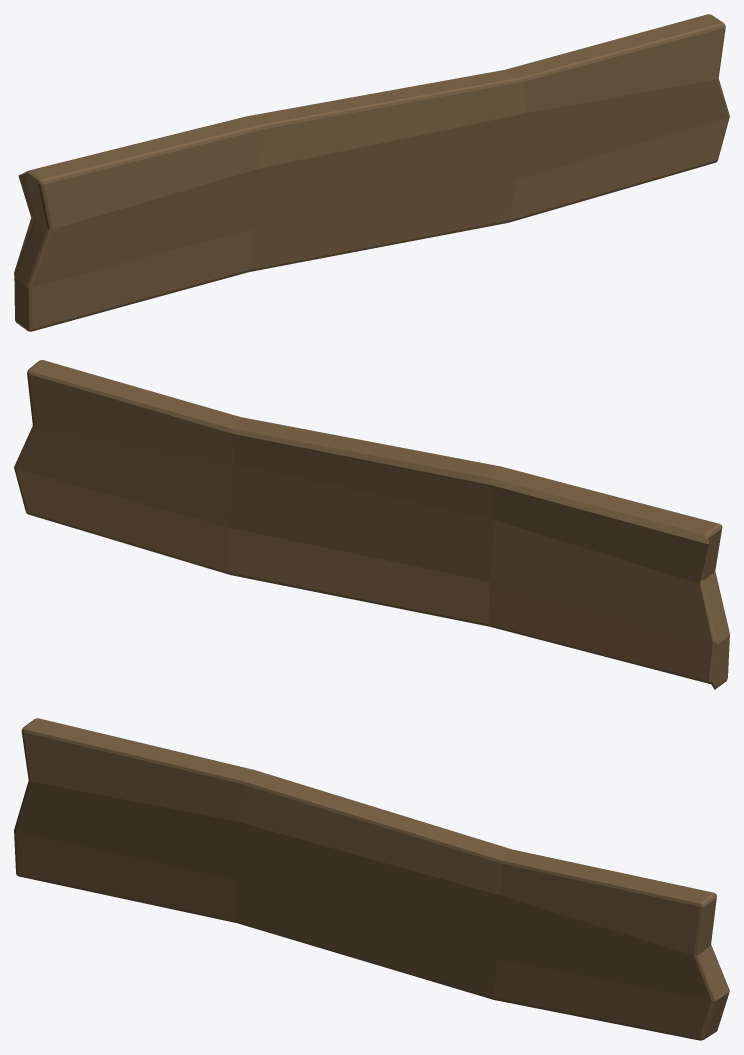
Rendered from board.fbx.
3 views of the same model, one above another, from view 1: azimuth 30°, elevation 25°; view 2: azimuth 150°, elevation 25°; view 3: azimuth 330°, elevation 25° (orthographic).
Parts seen in each view (by area): view 1: Cube; view 2: Cube; view 3: Cube.
Boxes of the visible parts, box(x1,y1,x2,y2) form: Cube: box(14, 14, 729, 331); Cube: box(14, 360, 729, 689); Cube: box(14, 718, 729, 1040).
Size of the model in its own units: 1023 by 223 by 59.76.
